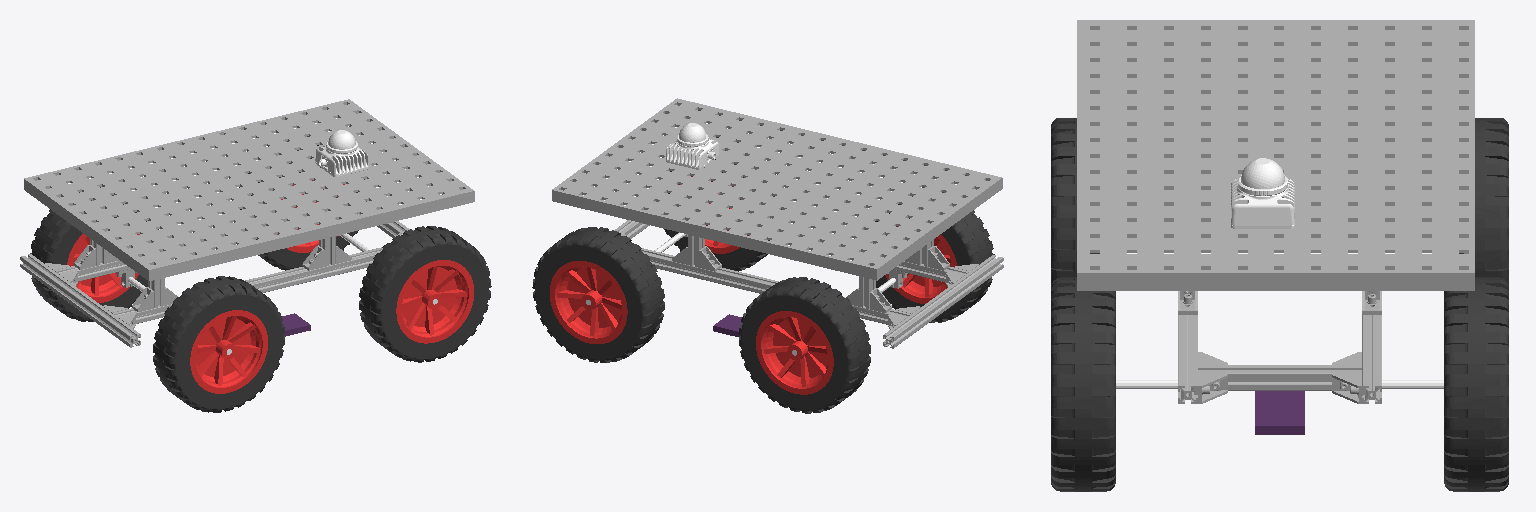
The robot description file, URDF, robot "chassis.SLDASM":
<?xml version='1.0' encoding='utf-8'?>
<robot name="chassis.SLDASM">
  <link name="base_footprint" />

  <joint name="base_footprint_to_base_link" type="fixed">
    <origin xyz="0 0 0.2330727279186138" rpy="3.14159265359 1.57079632679 0" />
    <parent link="base_footprint" />
    <child link="base_link" />
  </joint>
  <link name="base_link">
    <inertial>
      <origin xyz="0.228072734582867 -0.00375850445219656 -0.0522643184271548" rpy="0 0 0" />
      <mass value="0.05" />
      <inertia ixx="5.20833333333333E-05" ixy="5.55286076706932E-21" ixz="-2.25741069543197E-20" iyy="4.20833333333333E-05" iyz="-3.52615100073128E-22" izz="1.08333333333333E-05" />
    </inertial>
    <visual>
      <origin xyz="0 0 0" rpy="0 0 0" />
      <geometry>
        <mesh filename="package://chassis_description/meshes/base_link.STL" />
      </geometry>
      <material name="">
        <color rgba="0.419607843137255 0.270588235294118 0.470588235294118 0.4" />
      </material>
    </visual>
    </link>
  <link name="fixed_items">
    <inertial>
      <origin xyz="-0.0670736533868715 0.00522990404692169 -0.00292033811636873" rpy="0 0 0" />
      <mass value="1.96081590488597" />
      <inertia ixx="0.0869685301037205" ixy="6.39163745645689E-08" ixz="7.7181344710129E-07" iyy="0.0217010273085329" iyz="-1.21642949813537E-06" izz="0.065602499595821" />
    </inertial>
    <visual>
      <origin xyz="0 0 0" rpy="0 0 0" />
      <geometry>
        <mesh filename="package://chassis_description/meshes/fixed_items.STL" />
      </geometry>
      <material name="">
        <color rgba="0.752941176470588 0.752941176470588 0.752941176470588 1" />
      </material>
    </visual>
    </link>
  <joint name="fixed_items_joint" type="fixed">
    <origin xyz="0.0673120620772911 -0.00375850445219655 0.00448582103263107" rpy="1.5707963267949 0 0" />
    <parent link="base_link" />
    <child link="fixed_items" />
    <axis xyz="0 0 0" />
  </joint>
  <link name="front_right">
    <inertial>
      <origin xyz="-1.23182001737776E-07 0.0354019102272813 5.51296193279649E-08" rpy="0 0 0" />
      <mass value="0.259428239938463" />
      <inertia ixx="0.00136216281068031" ixy="4.80923773861825E-10" ixz="-4.40164286014686E-10" iyy="0.00241162687278075" iyz="-1.04609215286613E-10" izz="0.00136215983170492" />
    </inertial>
    <visual>
      <origin xyz="0 0 0" rpy="0 0 0" />
      <geometry>
        <mesh filename="package://chassis_description/meshes/front_right.STL" />
      </geometry>
      <material name="">
        <color rgba="0.298039215686275 0.298039215686275 0.298039215686275 1" />
      </material>
    </visual>
    </link>
  <joint name="front_right_joint" type="fixed">
    <origin xyz="0.125572734582867 0.158343897850315 -0.21382268634779" rpy="0 1.31280559336702 0" />
    <parent link="base_link" />
    <child link="front_right" />
    <axis xyz="0 1 0" />
  </joint>
  <link name="front_right_wheel">
    <inertial>
      <origin xyz="0 0.0353975978318701 2.36297093003657E-12" rpy="0 0 0" />
      <mass value="0.492078704293848" />
      <inertia ixx="0.000685024208918095" ixy="-1.46073348139392E-19" ixz="-8.13151629364128E-20" iyy="0.00118197177455513" iyz="6.72087910854188E-20" izz="0.000685024208884099" />
    </inertial>
    <visual>
      <origin xyz="0 0 0" rpy="0 0 0" />
      <geometry>
        <mesh filename="package://chassis_description/meshes/front_right_wheel.STL" />
      </geometry>
      <material name="">
        <color rgba="0.968627450980392 0.258823529411765 0.258823529411765 1" />
      </material>
    </visual>
    <collision><origin xyz="0 0 0" rpy="1.57079632679 0 0" /><geometry><cylinder radius="0.105" length="0.07" /></geometry></collision></link>
  <joint name="front_right_wheel_joint" type="continuous">
    <origin xyz="0 0 0" rpy="0 -0.577811257152481 0" />
    <parent link="front_right" />
    <child link="front_right_wheel" />
    <axis xyz="0 1 0" />
  </joint>
  <link name="front_left">
    <inertial>
      <origin xyz="1.35158294001236E-08 -0.0353932639104869 5.11564002270148E-09" rpy="0 0 0" />
      <mass value="0.259428711608086" />
      <inertia ixx="0.0013621629460603" ixy="7.40413894978209E-11" ixz="-2.64282213870365E-10" iyy="0.00241162997210687" iyz="1.71356834621018E-11" izz="0.00136216302311896" />
    </inertial>
    <visual>
      <origin xyz="0 0 0" rpy="0 0 0" />
      <geometry>
        <mesh filename="package://chassis_description/meshes/front_left.STL" />
      </geometry>
      <material name="">
        <color rgba="0.298039215686275 0.298039215686275 0.298039215686275 1" />
      </material>
    </visual>
    </link>
  <joint name="front_left_joint" type="fixed">
    <origin xyz="0.125572734582867 -0.16586090675474 -0.213822686347791" rpy="0 1.31280559336702 0" />
    <parent link="base_link" />
    <child link="front_left" />
    <axis xyz="0 1 0" />
  </joint>
  <link name="front_left_wheel">
    <inertial>
      <origin xyz="5.55111512312578E-17 -0.0353975975630757 2.36291541888534E-12" rpy="0 0 0" />
      <mass value="0.492078704293848" />
      <inertia ixx="0.000685024208918095" ixy="-1.22384251274877E-19" ixz="-5.42101086242752E-20" iyy="0.00118197177455513" iyz="2.82340898889023E-20" izz="0.000685024208884099" />
    </inertial>
    <visual>
      <origin xyz="0 0 0" rpy="0 0 0" />
      <geometry>
        <mesh filename="package://chassis_description/meshes/front_left_wheel.STL" />
      </geometry>
      <material name="">
        <color rgba="0.968627450980392 0.258823529411765 0.258823529411765 1" />
      </material>
    </visual>
    <collision><origin xyz="0 0 0" rpy="1.57079632679 0 0" /><geometry><cylinder radius="0.105" length="0.07" /></geometry></collision></link>
  <joint name="front_left_wheel_joint" type="continuous">
    <origin xyz="0 0 0" rpy="0 -0.577811257152481 0" />
    <parent link="front_left" />
    <child link="front_left_wheel" />
    <axis xyz="0 1 0" />
  </joint>
  <link name="rare_left">
    <inertial>
      <origin xyz="9.49505991887367E-08 -0.035393286004898 1.23302397445069E-07" rpy="0 0 0" />
      <mass value="0.259428227502147" />
      <inertia ixx="0.00136216080806037" ixy="-2.26332760363519E-10" ixz="1.69725354132394E-09" iyy="0.00241162679846269" iyz="-3.89204321173845E-10" izz="0.00136216174542507" />
    </inertial>
    <visual>
      <origin xyz="0 0 0" rpy="0 0 0" />
      <geometry>
        <mesh filename="package://chassis_description/meshes/rare_left.STL" />
      </geometry>
      <material name="">
        <color rgba="0.298039215686275 0.298039215686275 0.298039215686275 1" />
      </material>
    </visual>
    </link>
  <joint name="rare_left_joint" type="fixed">
    <origin xyz="0.125572734582867 -0.16586090675474 0.166211482877379" rpy="0 -1.0423567919101 0" />
    <parent link="base_link" />
    <child link="rare_left" />
    <axis xyz="0 1 0" />
  </joint>
  <link name="rare_left_wheel">
    <inertial>
      <origin xyz="2.32464048011138E-12 -0.0353975975630755 4.230227279578E-13" rpy="0 0 0" />
      <mass value="0.492078704293848" />
      <inertia ixx="0.000685024208885188" ixy="3.78132284208099E-20" ixz="-5.9879062971023E-15" iyy="0.00118197177455512" iyz="1.31780861220297E-20" izz="0.000685024208917004" />
    </inertial>
    <visual>
      <origin xyz="0 0 0" rpy="0 0 0" />
      <geometry>
        <mesh filename="package://chassis_description/meshes/rare_left_wheel.STL" />
      </geometry>
      <material name="">
        <color rgba="0.968627450980392 0.258823529411765 0.258823529411765 1" />
      </material>
    </visual>
    <collision><origin xyz="0 0 0" rpy="1.57079632679 0 0" /><geometry><cylinder radius="0.105" length="0.07" /></geometry></collision></link>
  <joint name="rare_left_wheel_joint" type="continuous">
    <origin xyz="0 0 0" rpy="0 -0.57781125715248 0" />
    <parent link="rare_left" />
    <child link="rare_left_wheel" />
    <axis xyz="0 1 0" />
  </joint>
  <link name="rare_right">
    <inertial>
      <origin xyz="-1.10520934071268E-09 0.0354019333270385 5.44597289486859E-09" rpy="0 0 0" />
      <mass value="0.259428831657285" />
      <inertia ixx="0.0013621636268984" ixy="3.14627818978861E-11" ixz="4.97141442595828E-11" iyy="0.00241163082582338" iyz="-7.17181289090968E-11" izz="0.0013621631462981" />
    </inertial>
    <visual>
      <origin xyz="0 0 0" rpy="0 0 0" />
      <geometry>
        <mesh filename="package://chassis_description/meshes/rare_right.STL" />
      </geometry>
      <material name="">
        <color rgba="0.298039215686275 0.298039215686275 0.298039215686275 1" />
      </material>
    </visual>
    </link>
  <joint name="rare_right_joint" type="fixed">
    <origin xyz="0.125572734582867 0.158343897850315 0.166211482877379" rpy="0 -1.0423567919101 0" />
    <parent link="base_link" />
    <child link="rare_right" />
    <axis xyz="0 1 0" />
  </joint>
  <link name="rare_right_wheel">
    <inertial>
      <origin xyz="2.32472374683823E-12 0.0353975978318702 4.22994972382185E-13" rpy="0 0 0" />
      <mass value="0.492078704293848" />
      <inertia ixx="0.000685024208885188" ixy="2.07548779155651E-21" ixz="-5.9879367902884E-15" iyy="0.00118197177455512" iyz="3.01757565830602E-20" izz="0.000685024208917004" />
    </inertial>
    <visual>
      <origin xyz="0 0 0" rpy="0 0 0" />
      <geometry>
        <mesh filename="package://chassis_description/meshes/rare_right_wheel.STL" />
      </geometry>
      <material name="">
        <color rgba="0.968627450980392 0.258823529411765 0.258823529411765 1" />
      </material>
    </visual>
    <collision><origin xyz="0 0 0" rpy="1.57079632679 0 0" /><geometry><cylinder radius="0.105" length="0.07" /></geometry></collision></link>
  <joint name="rare_right_wheel_joint" type="continuous">
    <origin xyz="0 0 0" rpy="0 -0.57781125715248 0" />
    <parent link="rare_right" />
    <child link="rare_right_wheel" />
    <axis xyz="0 1 0" />
  </joint>
  <link name="lidar_link">
    <inertial><origin xyz="0 0 0" rpy="0 0 0" /><mass value="0.265000" /><inertia ixx="0.0001728021" ixy="0" ixz="0" iyy="0.0001728021" iyz="0" izz="0.0001866042" /></inertial><visual>
      <origin xyz="0 0 0" rpy="0 0 0" />
      <geometry>
        <mesh filename="package://chassis_description/meshes/lidar_link.STL" />
      </geometry>
      <material name="">
        <color rgba="1 1 1 1" />
      </material>
    </visual>
    <collision><origin xyz="0 0 0" rpy="0 0 0" /><geometry><box size="0.065 0.065 0.060" /></geometry></collision></link>
  <joint name="lidar_joint" type="fixed">
    <origin xyz="-0.04 0.00999999999999999 -0.15" rpy="1.57079632679489 -1.5358897417551 0" />
    <parent link="base_link" />
    <child link="lidar_link" />
    <axis xyz="0 0 0" />
  </joint>
  <link name="front_axel">
    <inertial>
      <origin xyz="0.000572734582866663 0.00117731365220958 0.00375850445219654" rpy="0 0 0" />
      <mass value="0.0361283155162826" />
      <inertia ixx="0.000637288432242427" ixy="-1.58542950739347E-24" ixz="-8.34365827143462E-20" iyy="0.000637288432242427" iyz="1.55301521119099E-19" izz="4.51603943953533E-07" />
    </inertial>
    <visual>
      <origin xyz="0 0 0" rpy="0 0 0" />
      <geometry>
        <mesh filename="package://chassis_description/meshes/front_axel.STL" />
      </geometry>
      <material name="">
        <color rgba="1 1 1 1" />
      </material>
    </visual>
    </link>
  <joint name="front_axel_joint" type="fixed">
    <origin xyz="0.125 0 -0.215" rpy="1.5707963267949 0 0" />
    <parent link="base_link" />
    <child link="front_axel" />
    <axis xyz="0 0 -1" />
  </joint>
  <link name="rear_axel">
    <inertial>
      <origin xyz="0.00375850445219643 0.00121148287737907 -0.000572734582866746" rpy="0 0 0" />
      <mass value="0.0361283155162826" />
      <inertia ixx="4.51603943953533E-07" ixy="5.98891791213592E-21" ixz="-3.75471127944586E-20" iyy="0.000637288432242427" iyz="-2.10241739023749E-23" izz="0.000637288432242427" />
    </inertial>
    <visual>
      <origin xyz="0 0 0" rpy="0 0 0" />
      <geometry>
        <mesh filename="package://chassis_description/meshes/rear_axel.STL" />
      </geometry>
      <material name="">
        <color rgba="1 1 1 1" />
      </material>
    </visual>
    </link>
  <joint name="rear_axel_joint" type="fixed">
    <origin xyz="0.125 0 0.165" rpy="1.5707963267949 0 -1.5707963267949" />
    <parent link="base_link" />
    <child link="rear_axel" />
    <axis xyz="-1 0 0" />
  </joint>


  <gazebo>
    <plugin name="gazebo_ros_diff_drive" filename="libgazebo_ros_diff_drive.so">

      <ros>
        <namespace>/</namespace>
        <remapping>cmd_vel:=cmd_vel</remapping>
      </ros>

      <left_joint>front_left_wheel_joint</left_joint>
      <right_joint>front_right_wheel_joint</right_joint>

      <wheel_separation>0.55</wheel_separation>
      <wheel_diameter>0.21</wheel_diameter>

      <max_wheel_torque>500.0</max_wheel_torque>
      <max_wheel_acceleration>50.0</max_wheel_acceleration>

      <command_topic>cmd_vel</command_topic>

      <publish_odom>true</publish_odom>
      <publish_odom_tf>true</publish_odom_tf>
      <publish_wheel_tf>false</publish_wheel_tf>

      <odometry_frame>odom</odometry_frame>
      <robot_base_frame>base_footprint</robot_base_frame>

    </plugin>
  </gazebo>

<gazebo reference="rare_left_wheel"><mu1>10.0</mu1><mu2>10.0</mu2><kp>1000000.0</kp><kd>10.0</kd><material>Gazebo/Red</material></gazebo><gazebo reference="front_right_wheel"><mu1>10.0</mu1><mu2>10.0</mu2><kp>1000000.0</kp><kd>10.0</kd><material>Gazebo/Red</material></gazebo><gazebo reference="front_left_wheel"><mu1>10.0</mu1><mu2>10.0</mu2><kp>1000000.0</kp><kd>10.0</kd><material>Gazebo/Red</material></gazebo><gazebo reference="rare_right_wheel"><mu1>10.0</mu1><mu2>10.0</mu2><kp>1000000.0</kp><kd>10.0</kd><material>Gazebo/Red</material></gazebo><gazebo reference="base_link"><material>Gazebo/Grey</material></gazebo><gazebo reference="fixed_items"><material>Gazebo/Grey</material></gazebo><gazebo reference="front_axel"><material>Gazebo/Grey</material></gazebo><gazebo reference="rear_axel"><material>Gazebo/Grey</material></gazebo><gazebo reference="front_left"><material>Gazebo/Black</material></gazebo><gazebo reference="front_right"><material>Gazebo/Black</material></gazebo><gazebo reference="rare_left"><material>Gazebo/Black</material></gazebo><gazebo reference="rare_right"><material>Gazebo/Black</material></gazebo><gazebo reference="lidar_link"><material>Gazebo/Blue</material></gazebo><link name="imu_link"><inertial><origin xyz="0 0 0" rpy="0 0 0" /><mass value="0.001" /><inertia ixx="1e-7" ixy="0" ixz="0" iyy="1e-7" iyz="0" izz="1e-7" /></inertial></link><joint name="lidar_to_imu_joint" type="fixed"><origin xyz="0 0 0" rpy="0 0 0" /><parent link="lidar_link" /><child link="imu_link" /></joint><gazebo reference="imu_link"><sensor name="livox_mid360s_imu_sensor" type="imu"><always_on>true</always_on><update_rate>200</update_rate><visualize>false</visualize><plugin name="livox_mid360s_imu" filename="libgazebo_ros_imu_sensor.so"><ros><namespace>/</namespace><remapping>~/out:=/livox/imu</remapping></ros><frame_name>imu_link</frame_name><initial_orientation_as_reference>false</initial_orientation_as_reference></plugin></sensor></gazebo><link name="livox_scan_link"><inertial><origin xyz="0 0 0" rpy="0 0 0" /><mass value="0.001" /><inertia ixx="1e-7" ixy="0" ixz="0" iyy="1e-7" iyz="0" izz="1e-7" /></inertial></link><joint name="base_footprint_to_livox_scan_link" type="fixed"><origin xyz="0.25 0 0.45" rpy="0 0 0" /><parent link="base_footprint" /><child link="livox_scan_link" /></joint><gazebo reference="livox_scan_link"><sensor name="livox_mid360s_lidar" type="gpu_ray"><always_on>true</always_on><visualize>false</visualize><update_rate>10</update_rate><ray><scan><horizontal><samples>720</samples><resolution>1</resolution><min_angle>-3.14159265</min_angle><max_angle>3.14159265</max_angle></horizontal><vertical><samples>56</samples><resolution>1</resolution><min_angle>-0.122173</min_angle><max_angle>0.907571</max_angle></vertical></scan><range><min>0.1</min><max>70.0</max><resolution>0.01</resolution></range></ray><plugin name="livox_mid360s_lidar_plugin" filename="libgazebo_ros_ray_sensor.so"><ros><namespace>/</namespace><remapping>~/out:=/livox/lidar</remapping></ros><output_type>sensor_msgs/PointCloud2</output_type><frame_name>livox_scan_link</frame_name></plugin></sensor></gazebo></robot>

--- What the picture shows (computed from the rendered views, not written in the file) ---
3 views of the same robot in one strip: view 1: azimuth 30°, elevation 25°; view 2: azimuth 150°, elevation 25°; view 3: azimuth 270°, elevation 25° (orthographic).
Model chassis.SLDASM with 16 links and 15 joints (4 continuous, 11 fixed), rooted at base_footprint, posed every joint at zero.
Visible links, largest first — view 1: fixed_items, front_right, rare_right, rare_right_wheel, front_right_wheel, rare_left, lidar_link, rare_left_wheel, front_left; view 2: fixed_items, front_left, rare_left, rare_left_wheel, front_left_wheel, rare_right, lidar_link, rare_right_wheel, front_right; view 3: fixed_items, front_left, front_right, rare_left, rare_right, lidar_link, base_link, front_axel.
Link boxes in pixels (left/top/right/bottom): fixed_items: left=20, top=99, right=474, bottom=347; front_right: left=359, top=226, right=491, bottom=362; rare_right: left=153, top=276, right=284, bottom=412; rare_right_wheel: left=190, top=310, right=267, bottom=393; front_right_wheel: left=396, top=260, right=473, bottom=343; rare_left: left=30, top=187, right=158, bottom=321; lidar_link: left=315, top=130, right=368, bottom=176; rare_left_wheel: left=67, top=234, right=139, bottom=302; front_left: left=239, top=136, right=364, bottom=270; fixed_items: left=552, top=98, right=1003, bottom=348; front_left: left=532, top=227, right=664, bottom=362; rare_left: left=739, top=277, right=870, bottom=413; rare_left_wheel: left=756, top=311, right=833, bottom=394; front_left_wheel: left=550, top=261, right=627, bottom=343; rare_right: left=875, top=187, right=994, bottom=322; lidar_link: left=666, top=123, right=718, bottom=169; rare_right_wheel: left=885, top=226, right=956, bottom=303; front_right: left=664, top=137, right=781, bottom=271; fixed_items: left=1077, top=20, right=1474, bottom=403; front_left: left=1444, top=277, right=1508, bottom=491; front_right: left=1051, top=277, right=1115, bottom=491; rare_left: left=1459, top=118, right=1508, bottom=283; rare_right: left=1051, top=118, right=1099, bottom=283; lidar_link: left=1231, top=158, right=1294, bottom=228; base_link: left=1255, top=391, right=1304, bottom=434; front_axel: left=1116, top=380, right=1443, bottom=388.
Size in the robot's own frame: 0.6385 by 0.46 by 0.332 metres.
Meshes: 13 distinct files referenced, 13 mesh visuals loaded (13 binary STL).
